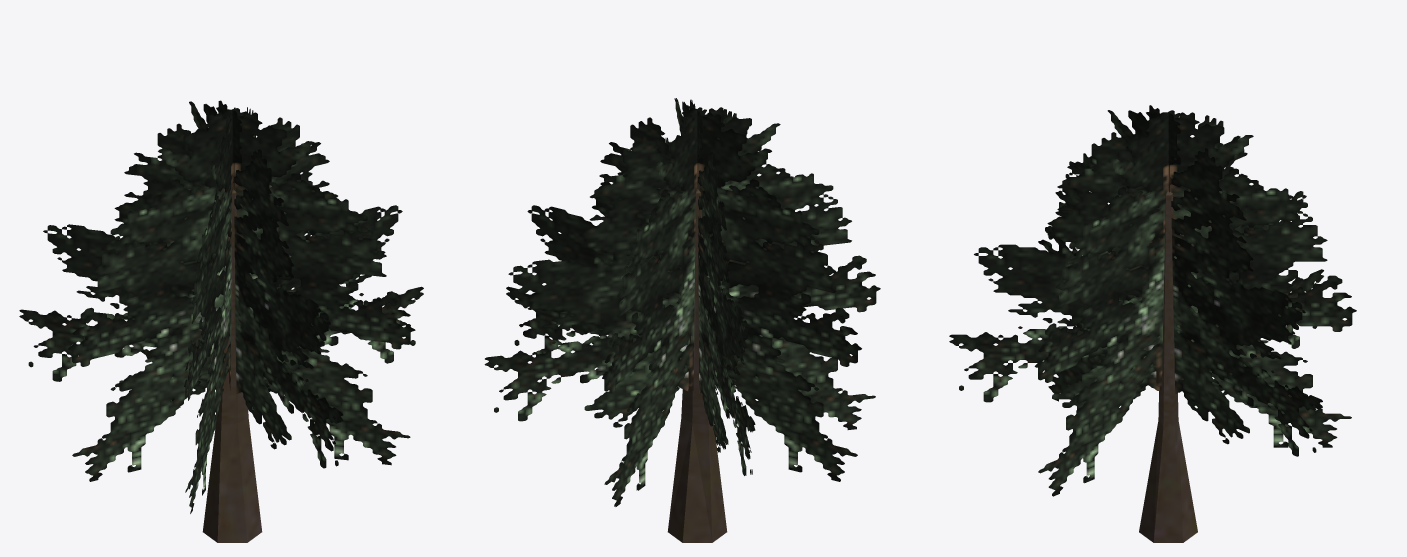
File: tree14.glb
3 views of the same model, side by side, from view 1: azimuth 30°, elevation 25°; view 2: azimuth 150°, elevation 25°; view 3: azimuth 270°, elevation 25° (orthographic).
Visible parts, largest first — view 1: tree14; view 2: tree14; view 3: tree14.
Boxes of the visible parts, <box> form: tree14: <box>19,100,423,542</box>; tree14: <box>484,98,880,542</box>; tree14: <box>949,105,1356,542</box>.
Size of the model in its own units: 12 by 12.5 by 12.
Materials: 1 (1 with a texture image).
